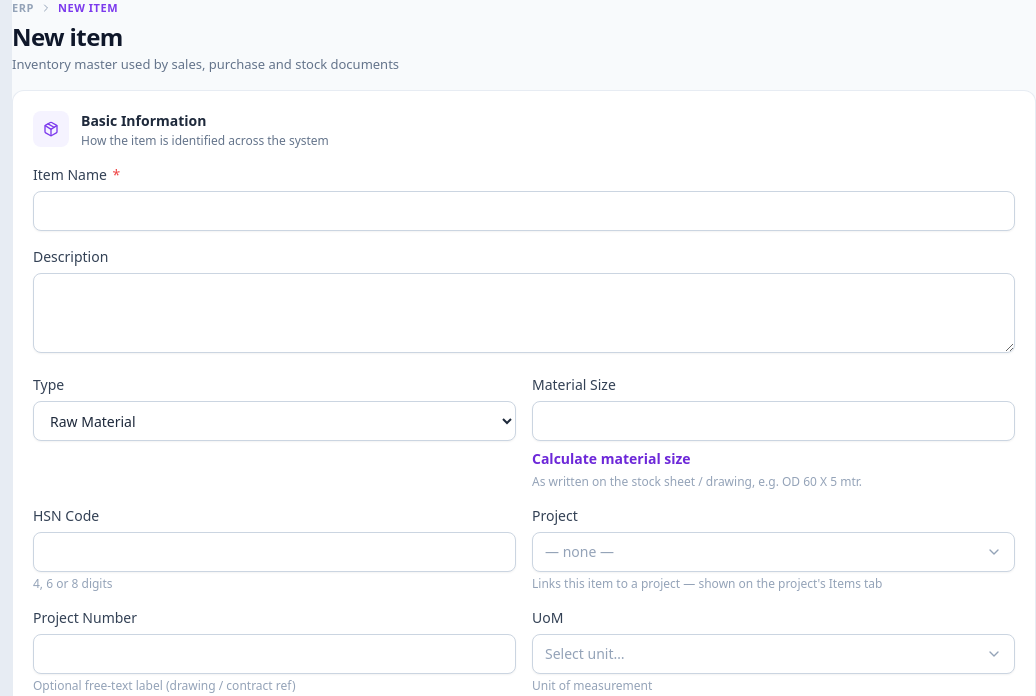
Test case: the category follows the calculated shape › fills an empty category from the shape, and says where it came from
Step 1. Type "Steel round bar" into the field labelled "Item Name *" → (524, 211), box [33, 191, 1015, 231]
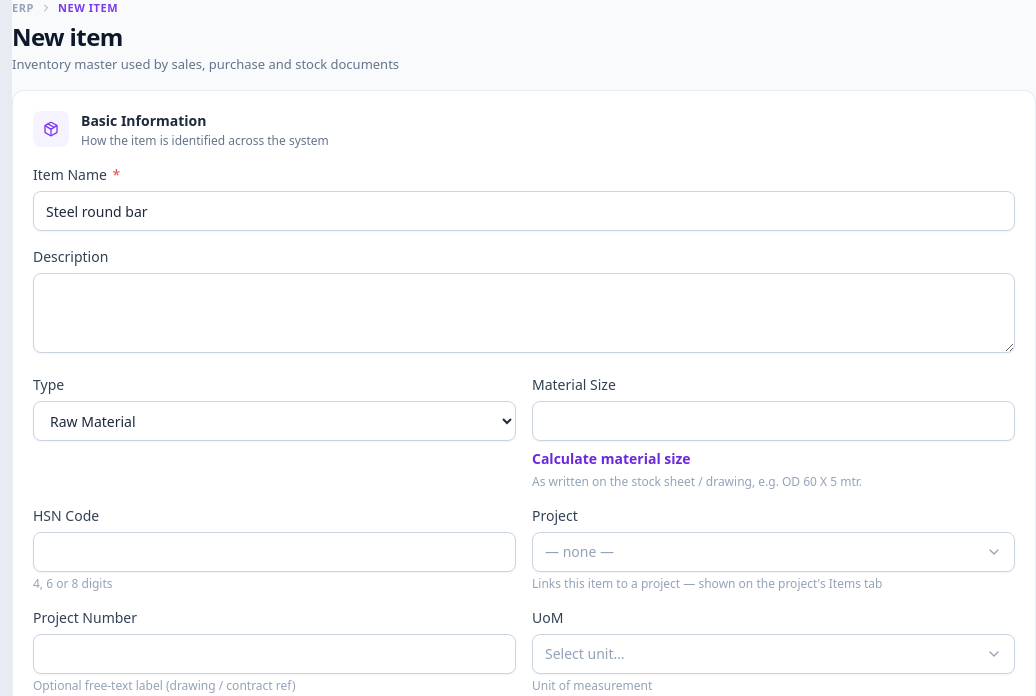
Step 2. Click the button "Calculate material size" → click(611, 459), box [532, 449, 691, 469]
(page scrolled)
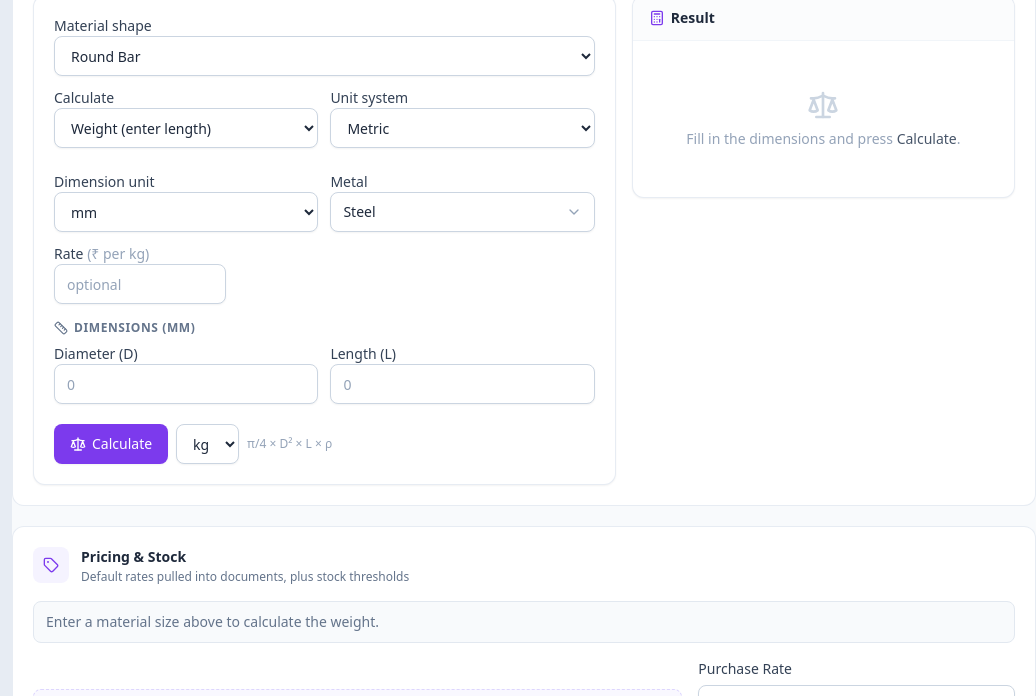
Expected: the dropdown labelled "Material shape" is shown, [54, 36, 595, 76]
Step 3. Type "100" into the number field with id "mc-d" → (186, 384), box [54, 364, 318, 404]
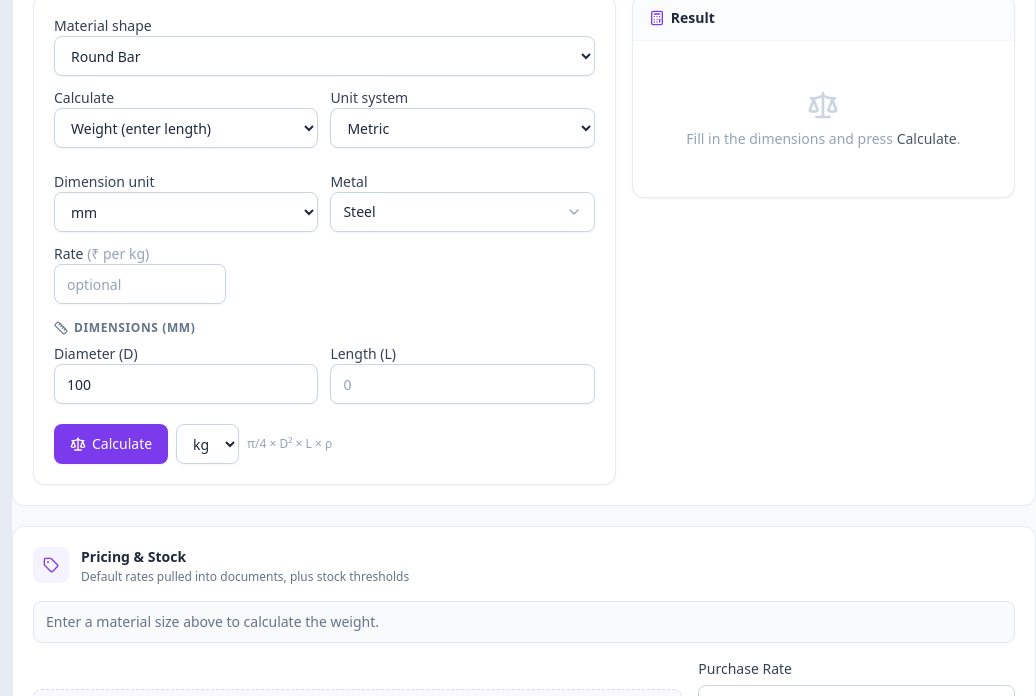
Step 4. Type "1000" into the number field with id "mc-L" → (463, 384), box [330, 364, 595, 404]
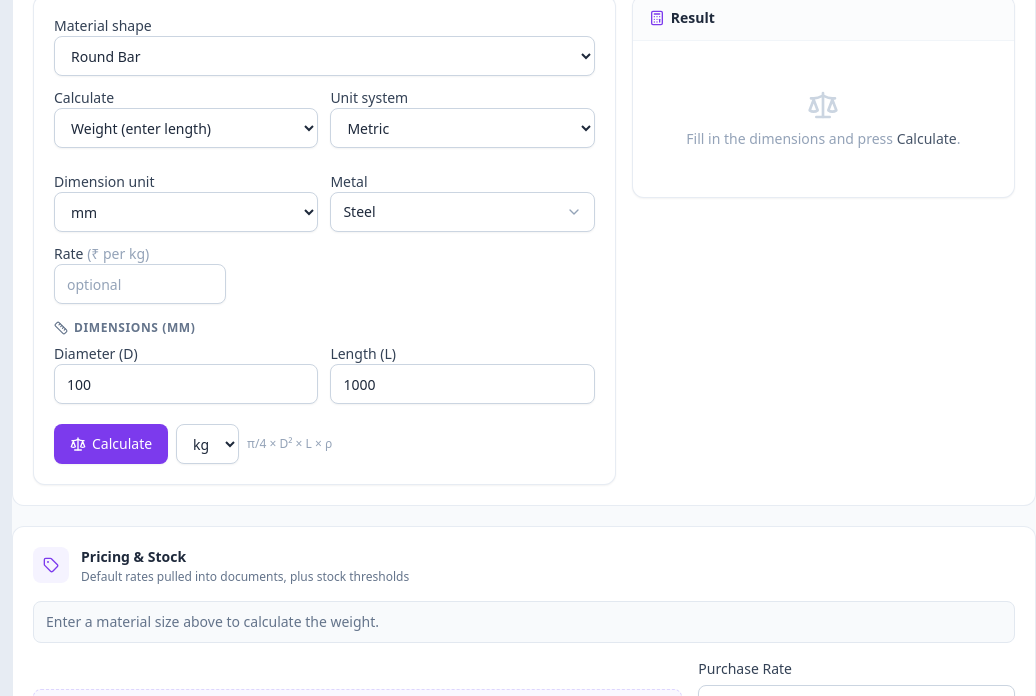
Step 5. Click the button "Calculate" → click(111, 444), box [54, 424, 168, 464]
(page scrolled)
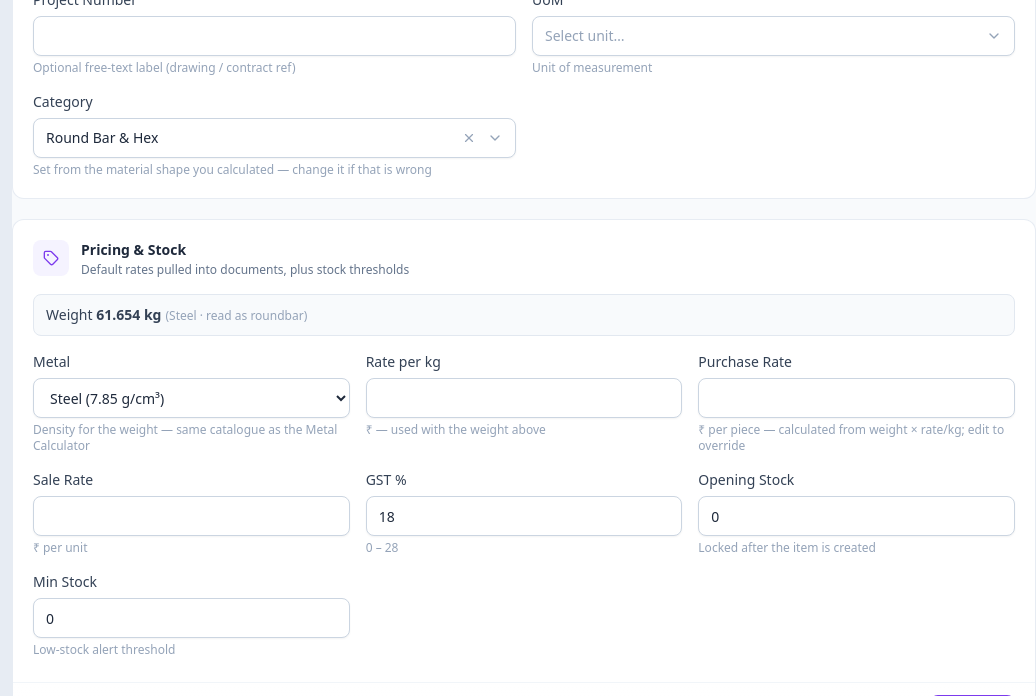
Expected: the text "Set from the material shape you calculated" is shown, [33, 161, 432, 178]
Expected: the text "Round Bar & Hex" is shown, [46, 128, 158, 147]
